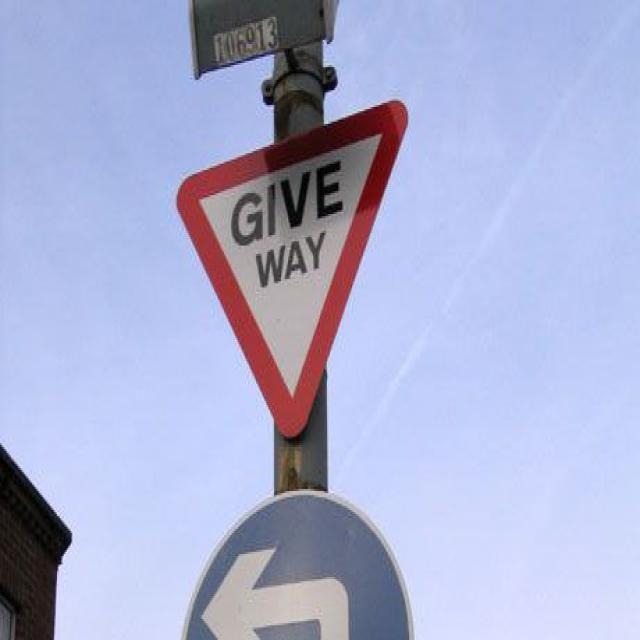giveway: (176, 102, 416, 441)
